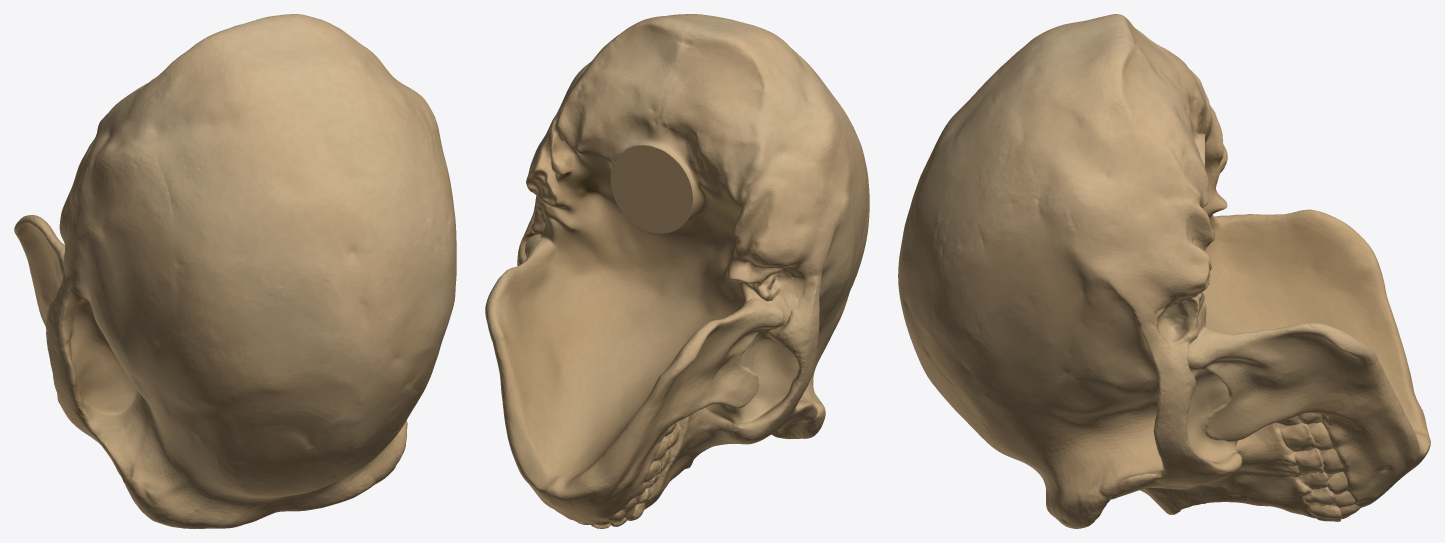
The model's file is erectus.glb.
The picture shows the model from 3 angles, left to right: view 1: azimuth 30°, elevation 25°; view 2: azimuth 150°, elevation 25°; view 3: azimuth 270°, elevation 25°; orthographic projection. The views are drawn at different scales.
Bounding box in the file's own units: 36.1 × 49.29 × 49.78.
